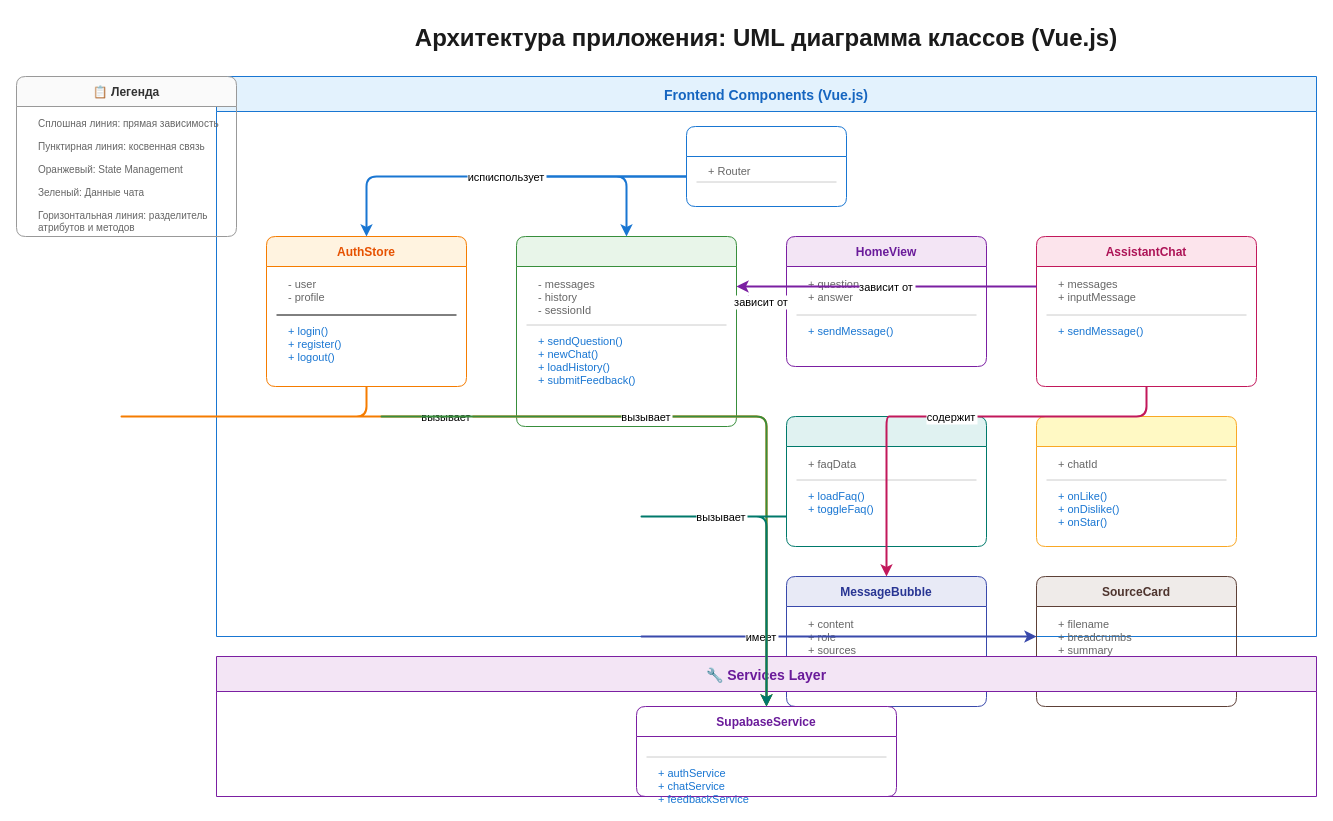
Some shapes in this 1333 by 821 pixel diagram are drawn without their labels. Here are the shapes that lost their labels. From the top down, the box of each, then its label:
(686, 126, 846, 206): App
(516, 236, 736, 426): ChatStore
(786, 416, 986, 546): FaqSection
(1036, 416, 1236, 546): FeedbackButtons
